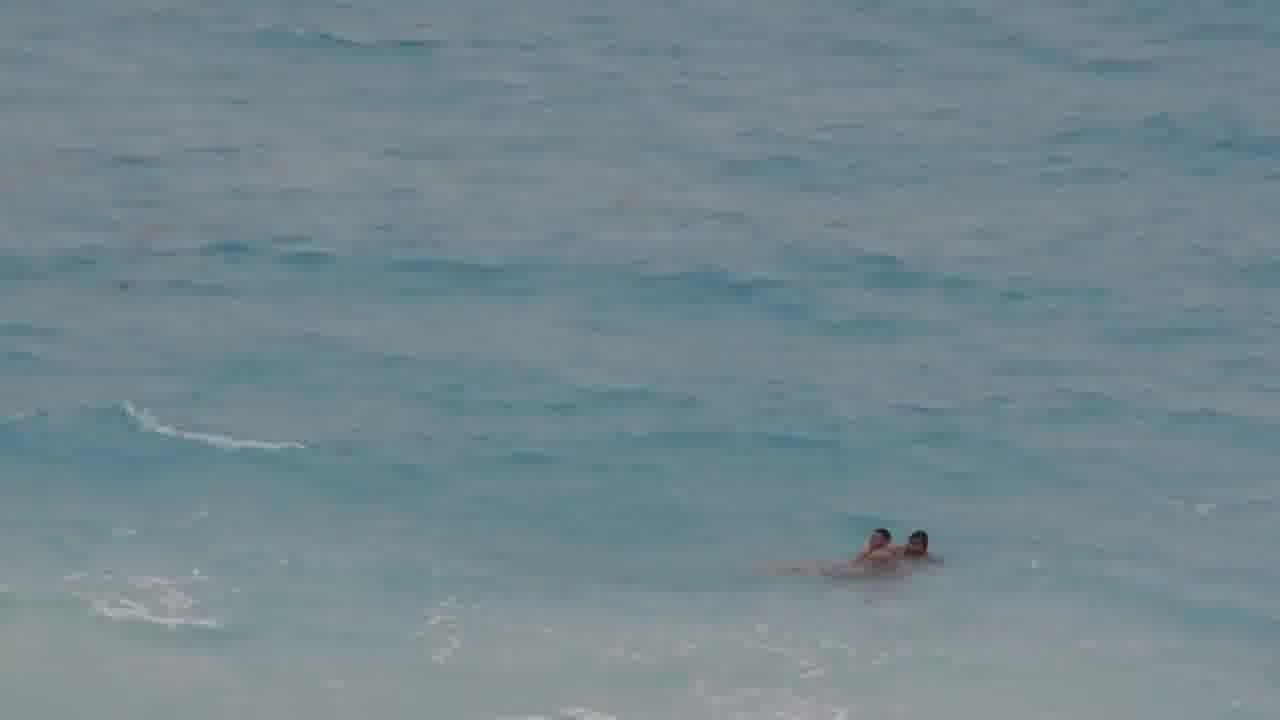human: (825, 522, 897, 572), (886, 522, 952, 572)
